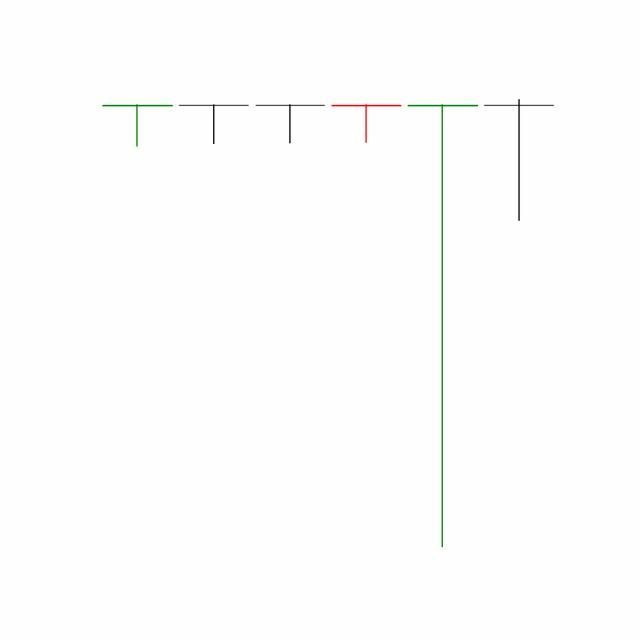Dragonfly Doji: (404, 101, 482, 554)
